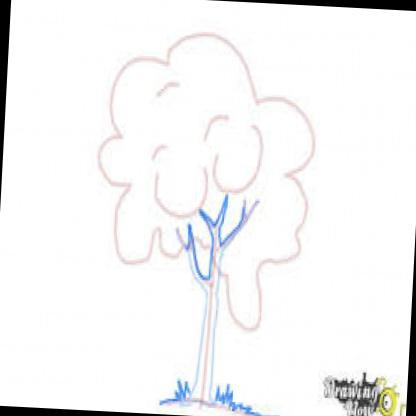branch_sharp: (172, 191, 260, 299)
crown_cloud: (88, 29, 320, 333)
root_none: (172, 380, 234, 416)
trunk_straight: (194, 300, 219, 391)
